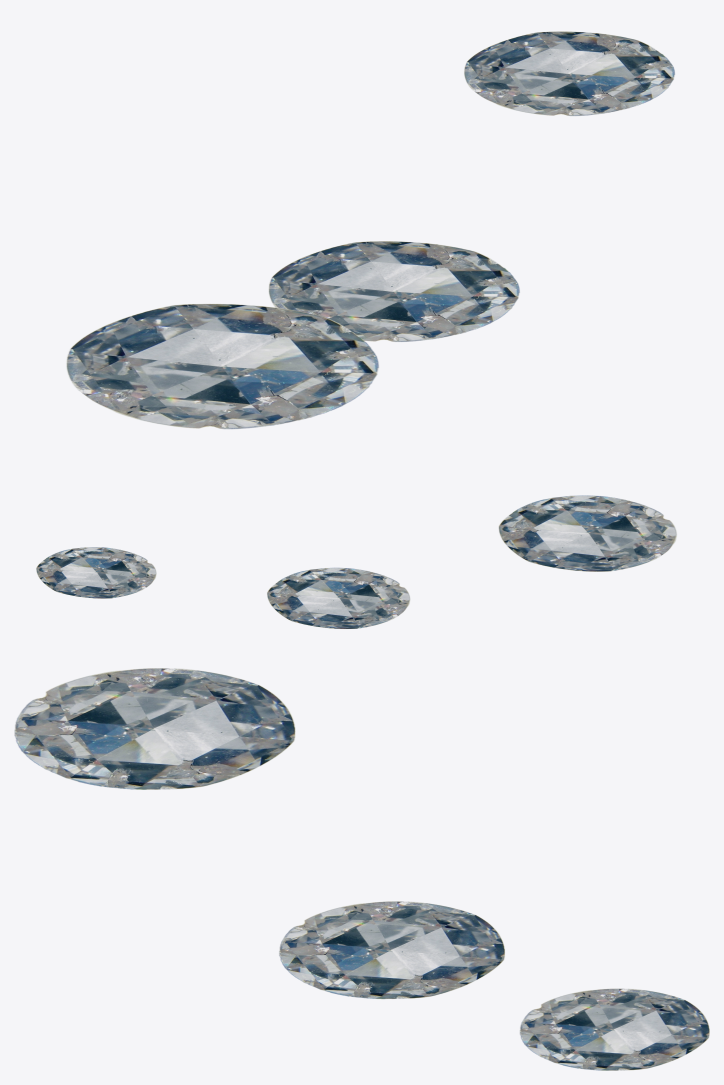
File: diamantes1.glb
The picture shows the model from 3 angles, top to bottom: view 1: azimuth 30°, elevation 25°; view 2: azimuth 150°, elevation 25°; view 3: azimuth 270°, elevation 25°; orthographic projection. The views are drawn at different scales.
Parts seen in each view (by area): view 1: diamante.001; view 2: diamante.001; view 3: diamante.001.
Part boxes in pixels (x1,y1,x2,y2): diamante.001: (66,31,674,429); diamante.001: (36,495,676,628); diamante.001: (14,668,709,1070).
Bounding box in the file's own units: 0.1528 × 0.0162 × 0.1206.
Materials: 1 (1 with a texture image).
